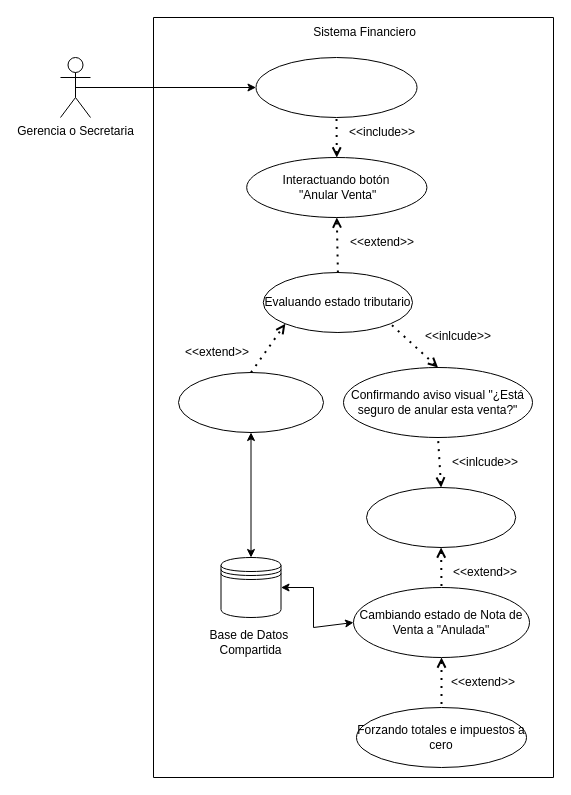
This 571x795 diagram has some shape labels left out. The box of each missing label's shape, as (x1, y1, x2, y2) in pixels:
Anulando Nota de Venta estándar: (255, 56, 417, 118)
Aprobando anulación: (366, 486, 516, 548)
Detectando factura asociada inexistente: (178, 372, 324, 432)
